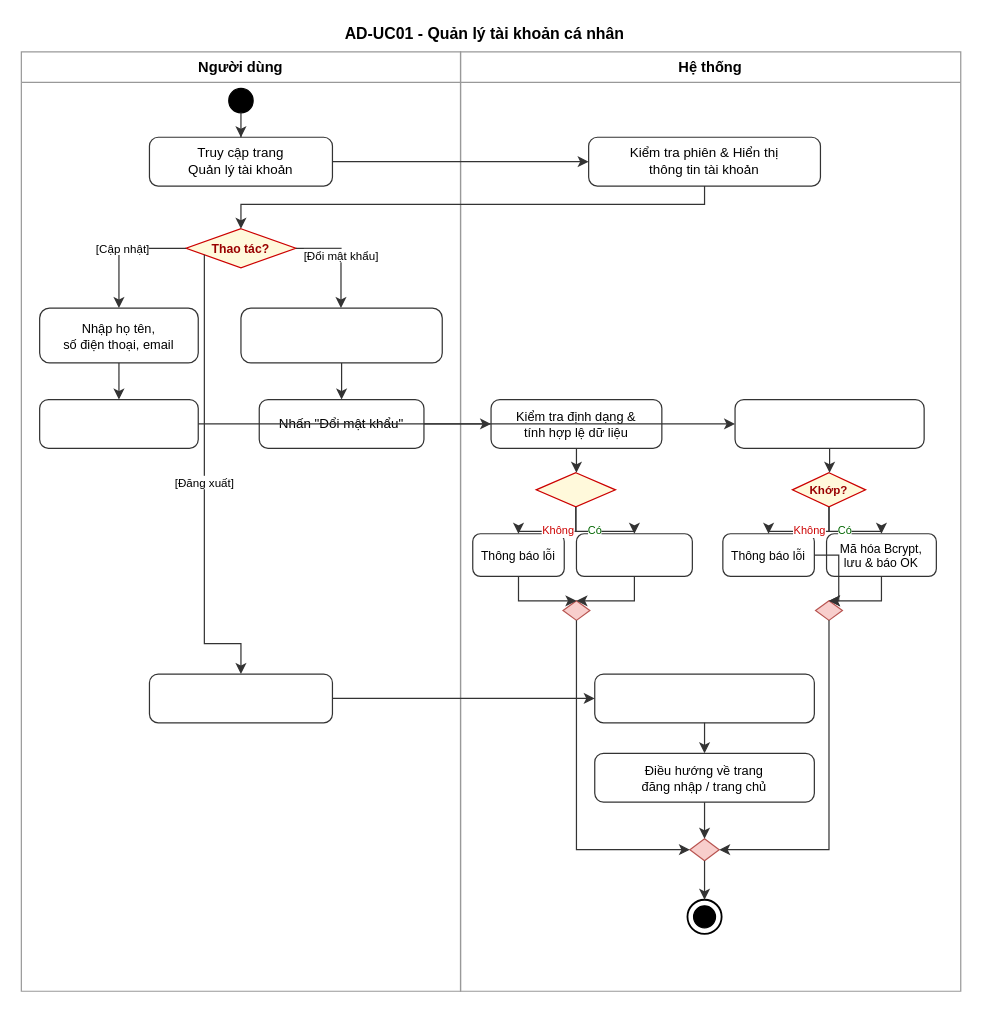
This 982x1013 diagram has some shape labels left out. Here are the shapes that lost their labels. From the top down, the box of each, then its label:
(240, 307, 442, 363): Nhập mật khẩu cũ, mật khẩu mới & xác nhận
(38, 398, 198, 448): Nhấn "Lưu thay đổi"
(734, 398, 924, 448): Kiểm tra mật khẩu cũ & khớp mật khẩu mới
(535, 472, 615, 507): Hợp lệ?
(575, 533, 692, 576): Cập nhật CSDL & báo thành công
(148, 673, 332, 723): Nhấn nút "Đăng xuất"
(594, 673, 814, 723): Hủy phiên đăng nhập (Revoke Token / Session)
